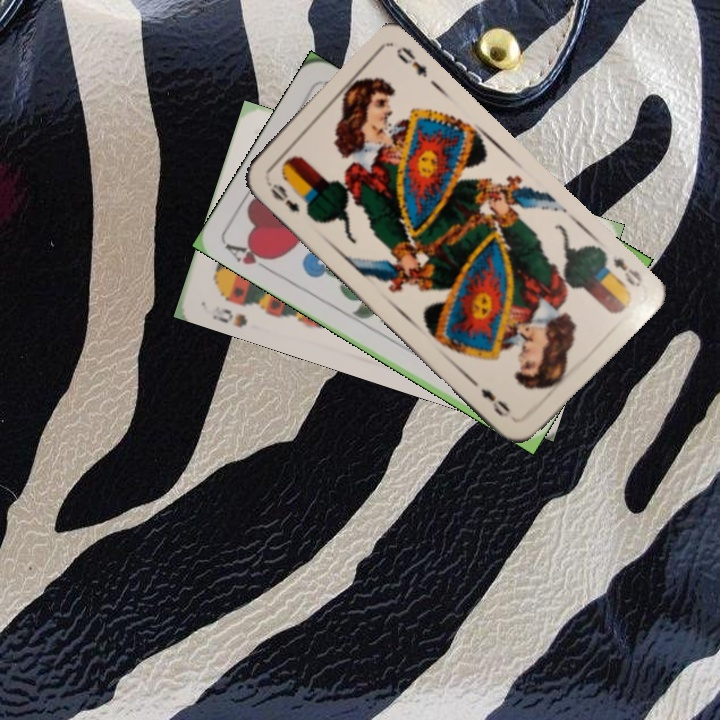EO: (262, 175, 303, 215), (608, 254, 645, 290)
HA: (220, 238, 278, 276)
S8: (202, 301, 250, 330)
